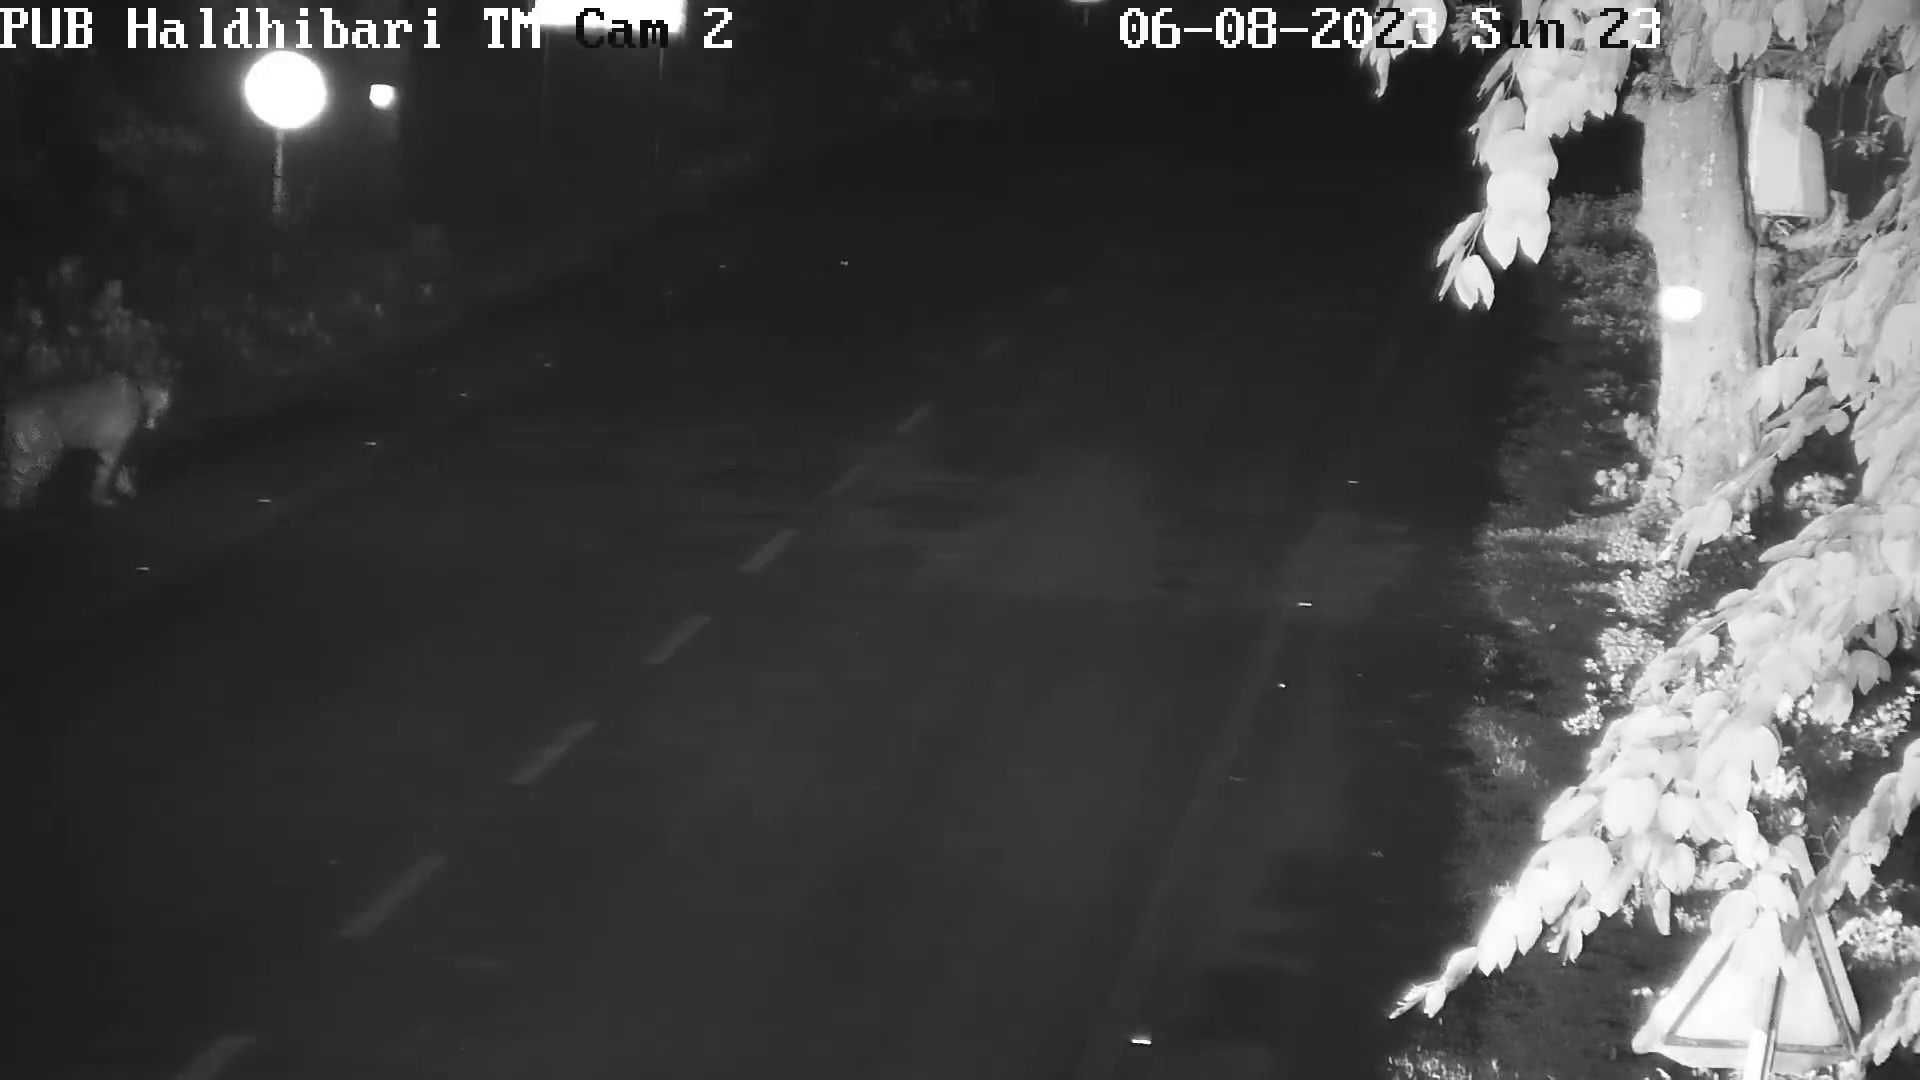tigers: (4, 375, 170, 495)
